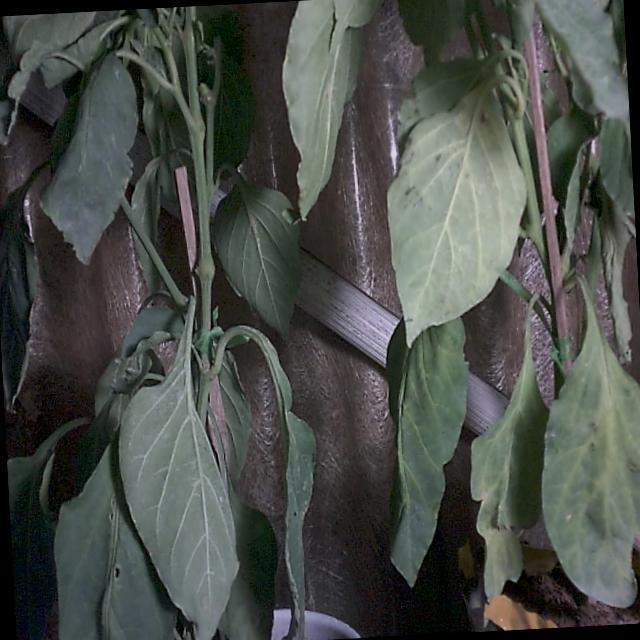Leaf: (381, 83, 534, 346), (114, 365, 244, 640), (530, 339, 640, 613), (31, 51, 148, 268)
